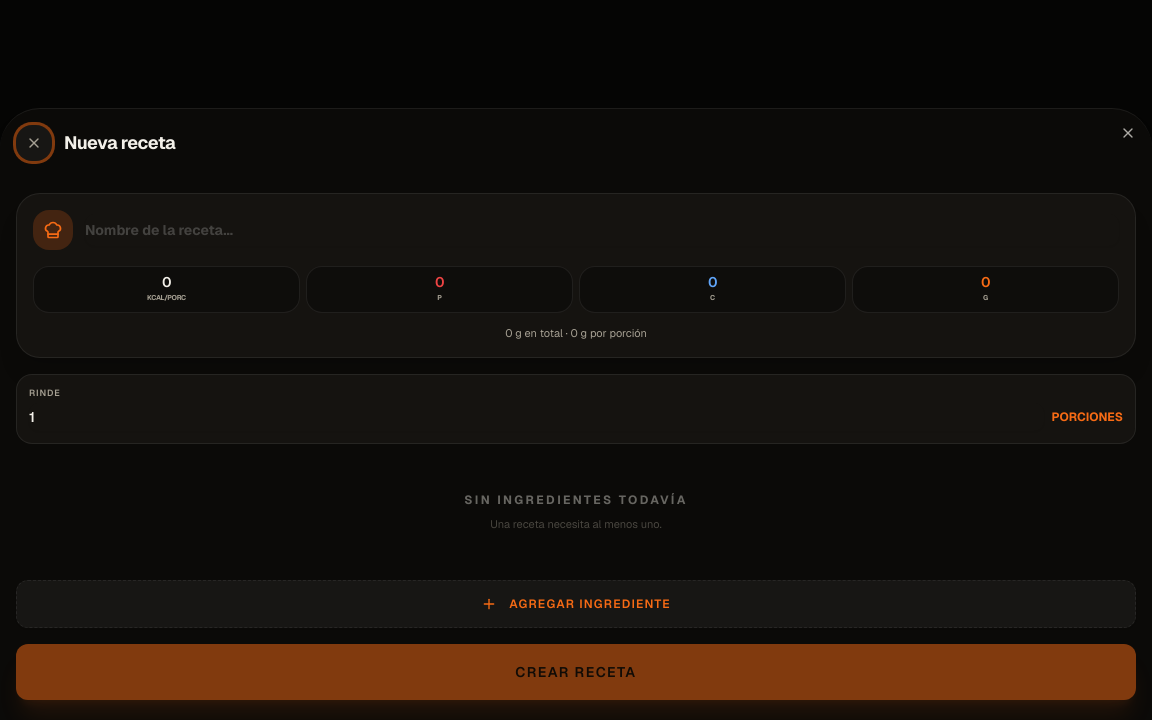
Test: RecipeEditorSheet — validation before the round trip › blocks an ingredient weighing zero
Step 1. Click the button "Agregar Ingrediente" → coordinates (576, 604), box [16, 580, 1136, 628]
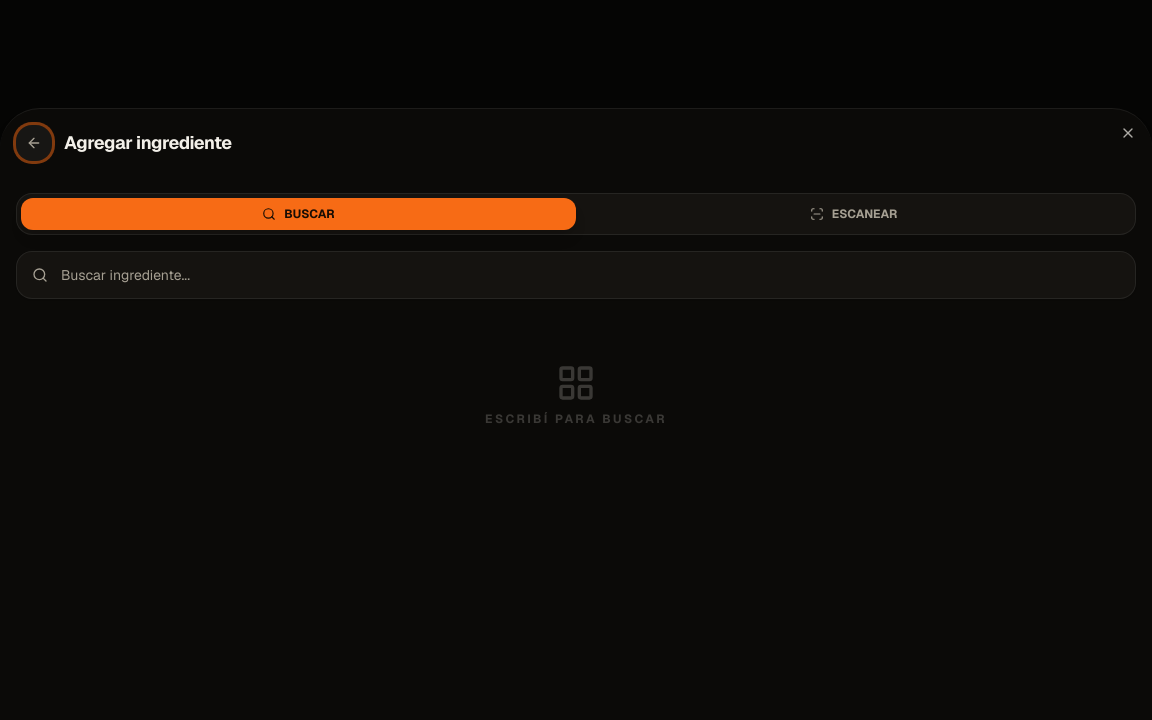
Step 2. Type "len" into the field with placeholder "Buscar ingrediente..." → coordinates (576, 275), box [16, 251, 1136, 299]
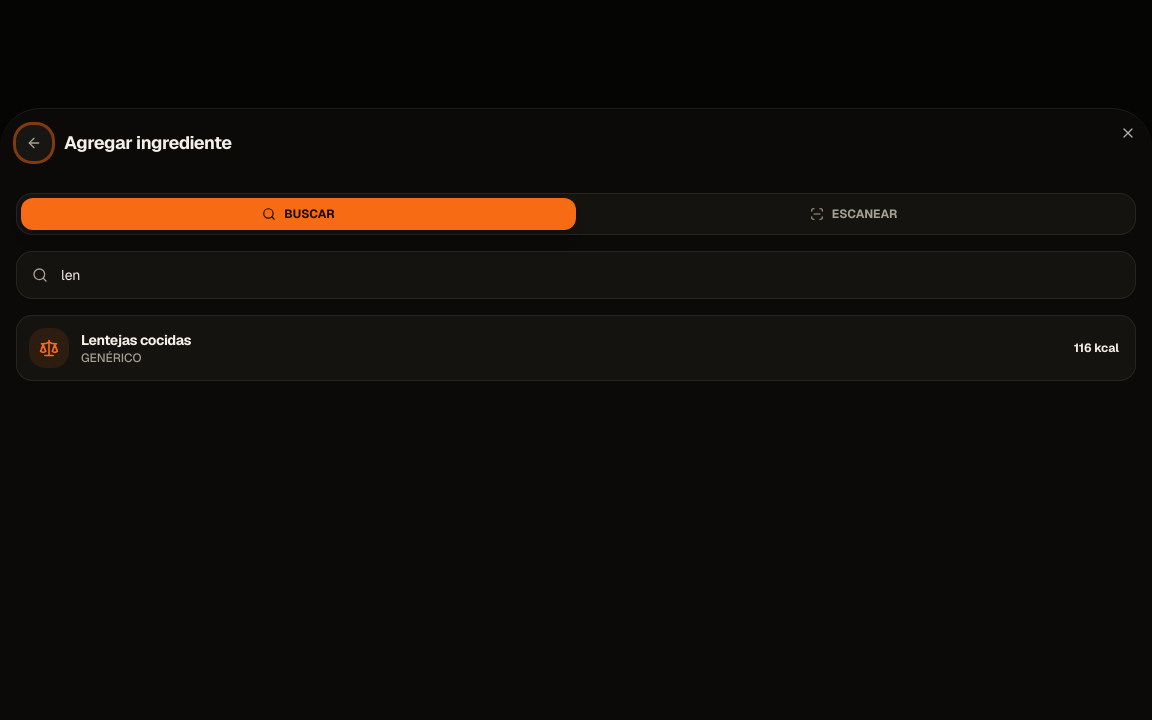
Step 3. Click the heading "Lentejas cocidas" → coordinates (136, 340), box [81, 330, 191, 350]
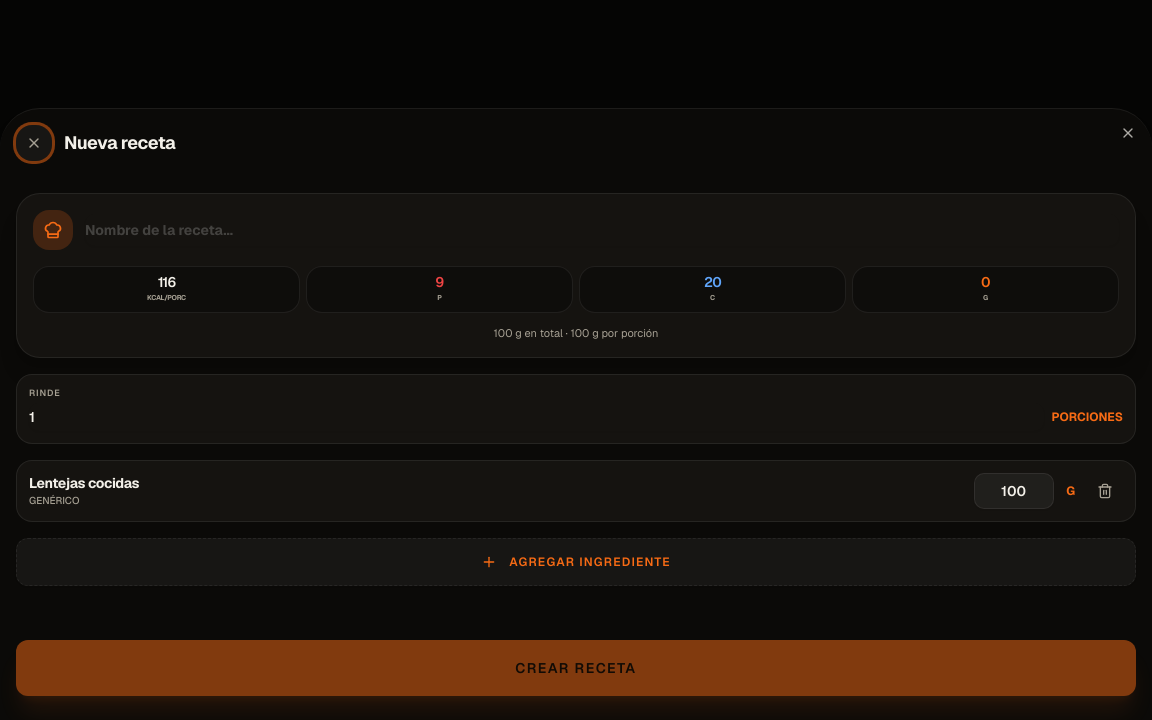
Step 4. Type "Guiso" into the field labelled "Nombre de la receta" → coordinates (602, 230), box [85, 214, 1119, 246]
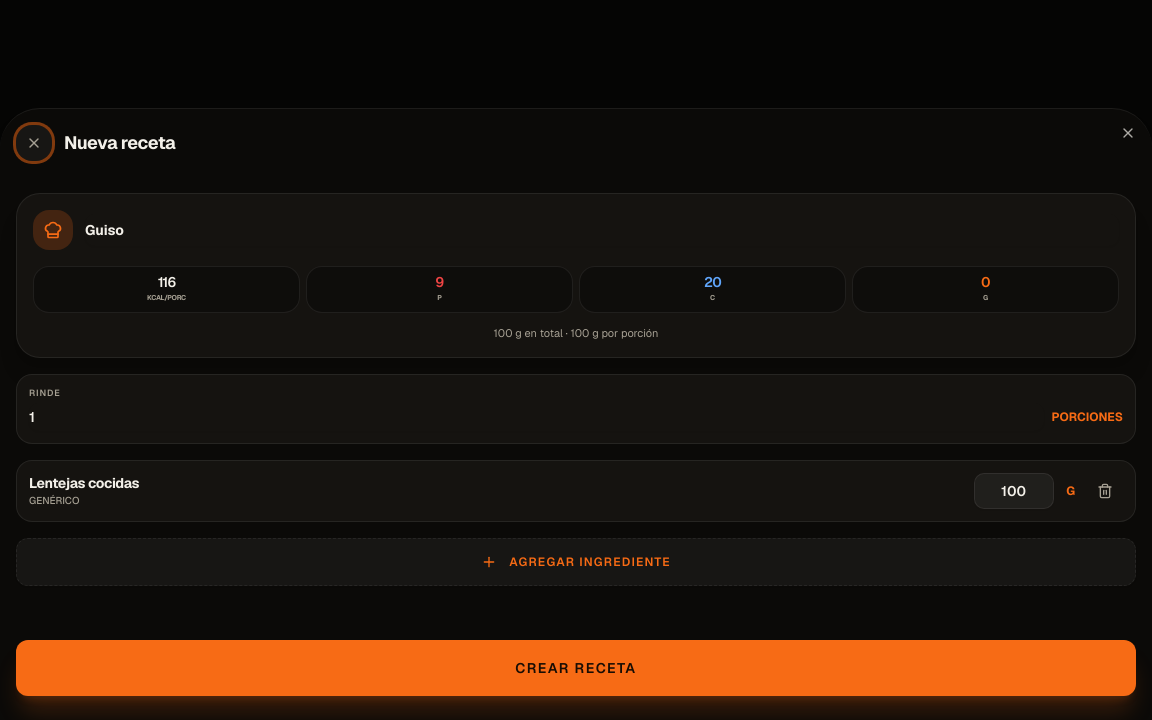
Step 5. Replace the text in the number field named "Gramos de Lentejas cocidas" with "0" → coordinates (1014, 490), box [974, 472, 1054, 508]
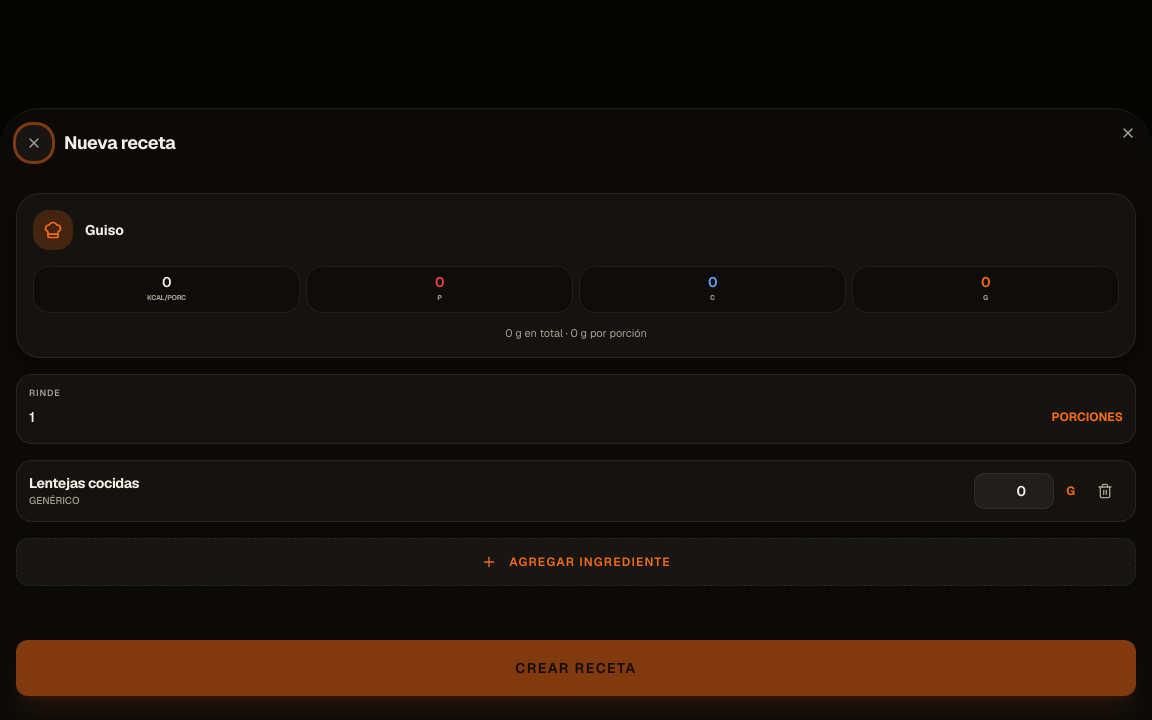
Check: the button "Crear Receta" is disabled, box [16, 640, 1136, 696]
